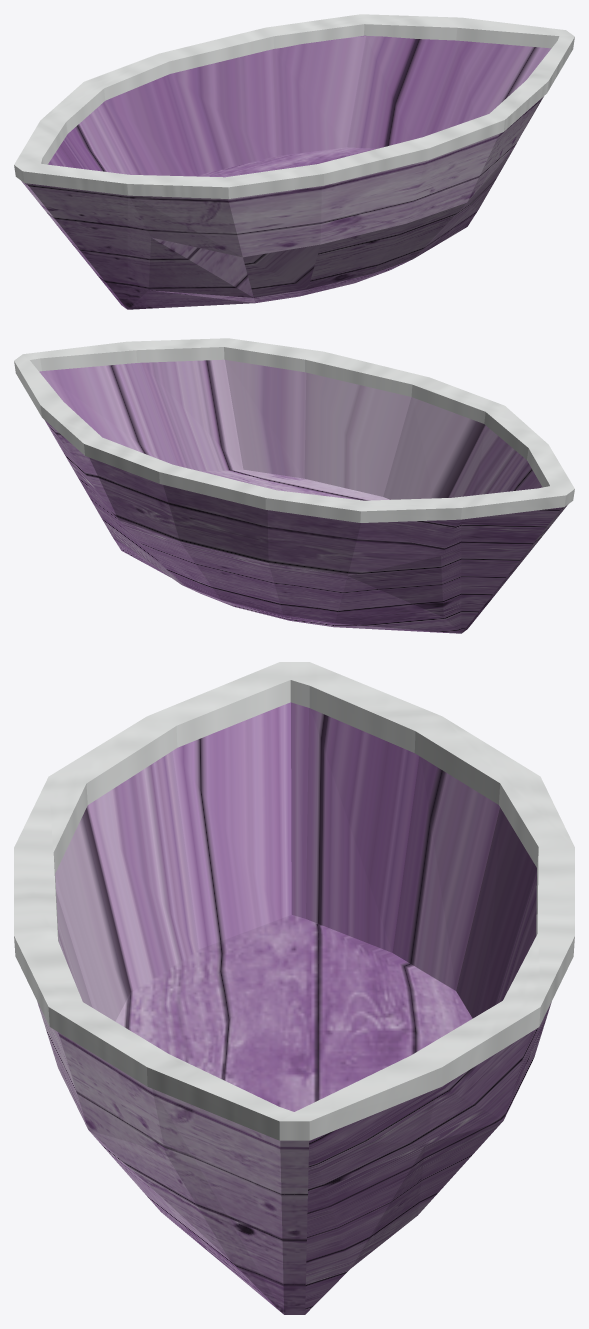
Rendered from boad.fbx.
3 renders of one model, top to bottom at view 1: azimuth 30°, elevation 25°; view 2: azimuth 150°, elevation 25°; view 3: azimuth 270°, elevation 25°, orthographic. The views are drawn at different scales.
Visible parts, largest first — view 1: polySurface4; view 2: polySurface4; view 3: polySurface4.
Part boxes in pixels (box(x1,y1,x2,y2)): polySurface4: box(14, 14, 574, 309); polySurface4: box(14, 338, 574, 633); polySurface4: box(14, 662, 574, 1314).
Bounding box in the file's own units: 3.87 × 1.11 × 2.
1 material, 1 textured.
